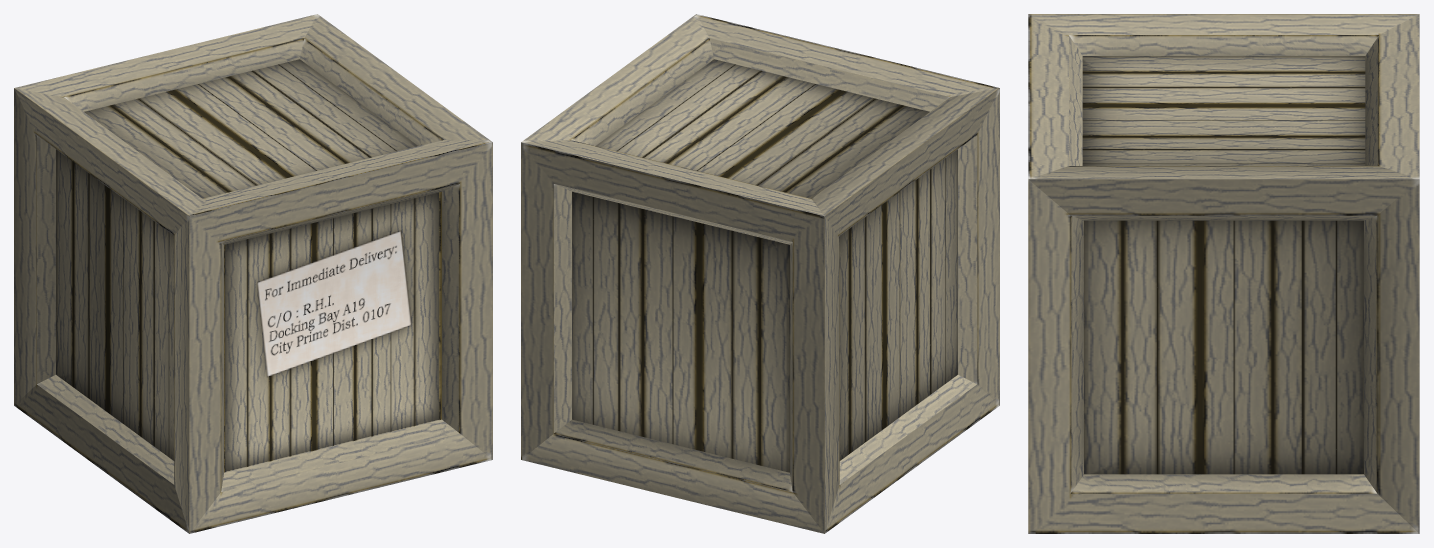
Rendered from Crate1.fbx.
3 views of the same model, side by side, from view 1: azimuth 30°, elevation 25°; view 2: azimuth 150°, elevation 25°; view 3: azimuth 270°, elevation 25° (orthographic). The views are drawn at different scales.
Visible parts, largest first — view 1: pCube1; view 2: pCube1; view 3: pCube1.
Boxes of the visible parts, x1,y1,x2,y2 form: pCube1: (14, 14, 492, 533); pCube1: (521, 14, 999, 533); pCube1: (1028, 14, 1419, 533).
Bounding box in the file's own units: 2 × 2 × 2.
